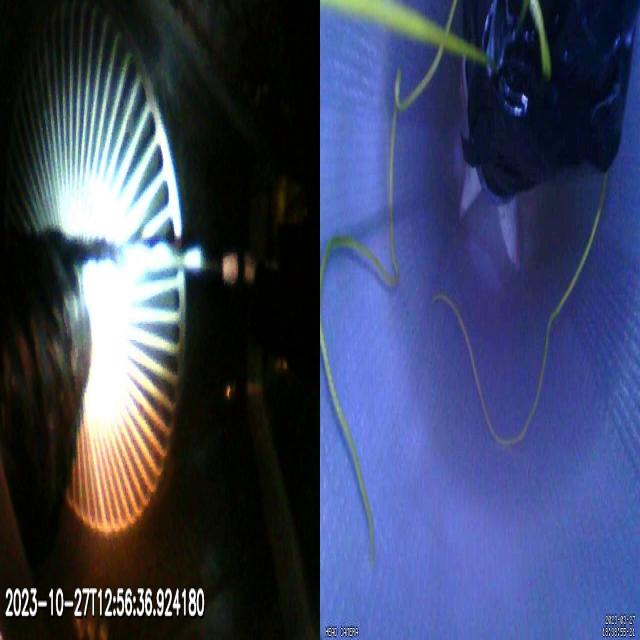white-dots: (222, 252, 280, 284)
